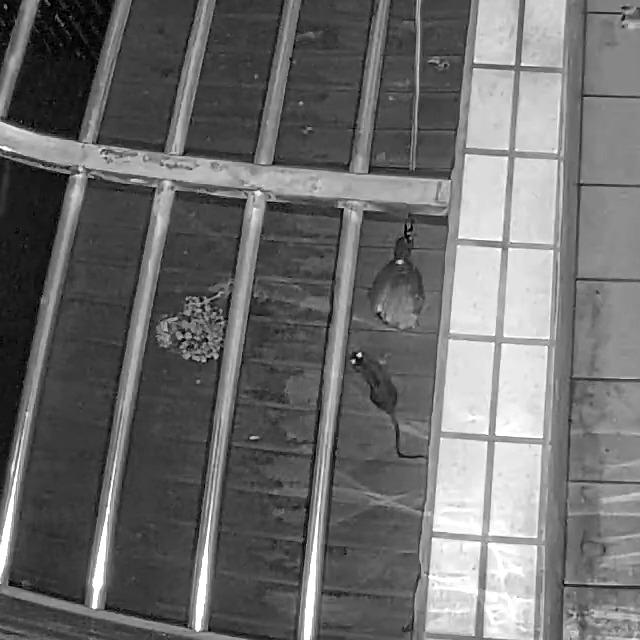rat: (348, 348, 427, 459)
